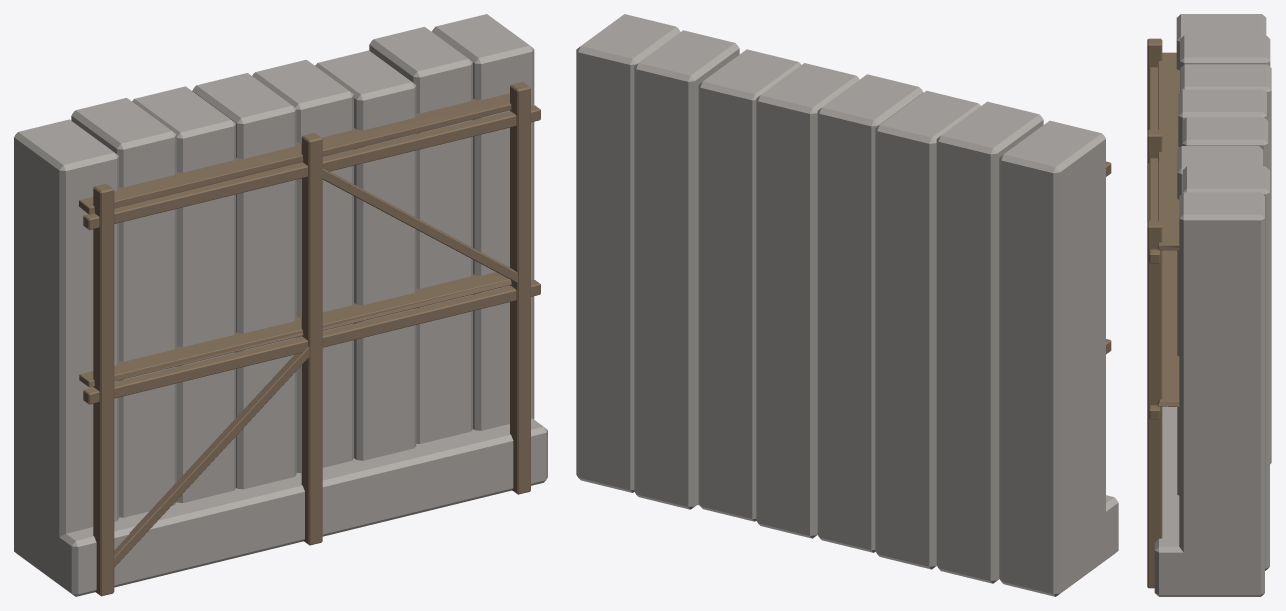
File: wall_scaffold.glb
The picture shows the model from 3 angles, left to right: view 1: azimuth 30°, elevation 25°; view 2: azimuth 150°, elevation 25°; view 3: azimuth 270°, elevation 25°; orthographic projection. The views are drawn at different scales.
Parts seen in each view (by area): view 1: stone, wood; view 2: stone; view 3: stone, wood.
Part boxes in pixels (<box>): stone: <box>14,14,547,596</box>; wood: <box>78,82,540,596</box>; stone: <box>576,14,1118,596</box>; stone: <box>1154,14,1271,596</box>; wood: <box>1147,38,1179,588</box>.
Size of the model in its own units: 4 by 3.44 by 1.01.
